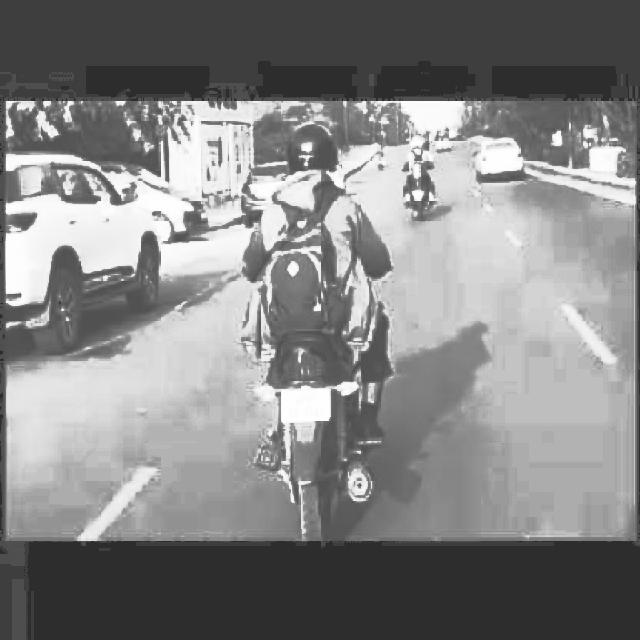Car: (2, 155, 180, 358), (122, 161, 215, 244), (475, 123, 537, 183), (252, 154, 307, 218)
